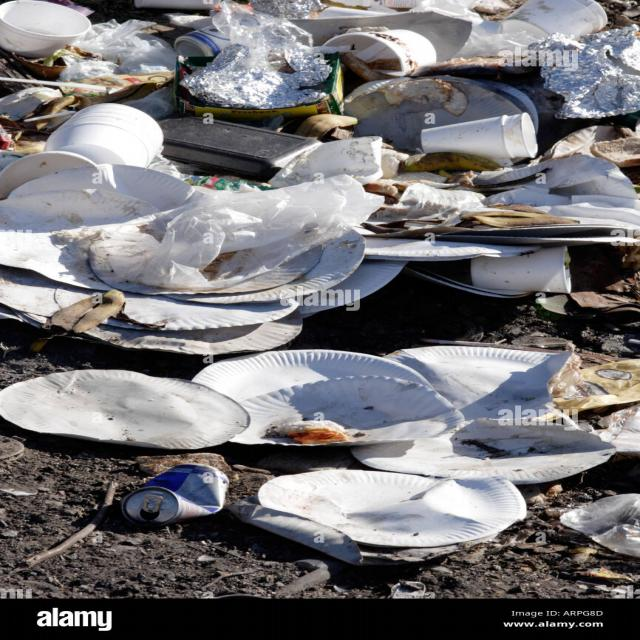metal: (179, 0, 332, 108), (531, 24, 640, 118), (120, 465, 228, 526)
paper: (81, 232, 405, 356), (257, 471, 526, 548), (0, 370, 248, 450), (225, 496, 495, 567), (352, 419, 616, 485), (231, 376, 465, 446), (0, 189, 157, 290), (387, 346, 572, 421), (192, 350, 432, 402), (7, 163, 194, 211), (0, 266, 96, 327), (563, 451, 566, 453)
plastic: (89, 175, 383, 292), (561, 495, 640, 558), (370, 182, 486, 221)
styrofoam: (1, 104, 163, 198), (421, 112, 537, 159), (0, 0, 89, 57), (472, 246, 572, 293)
